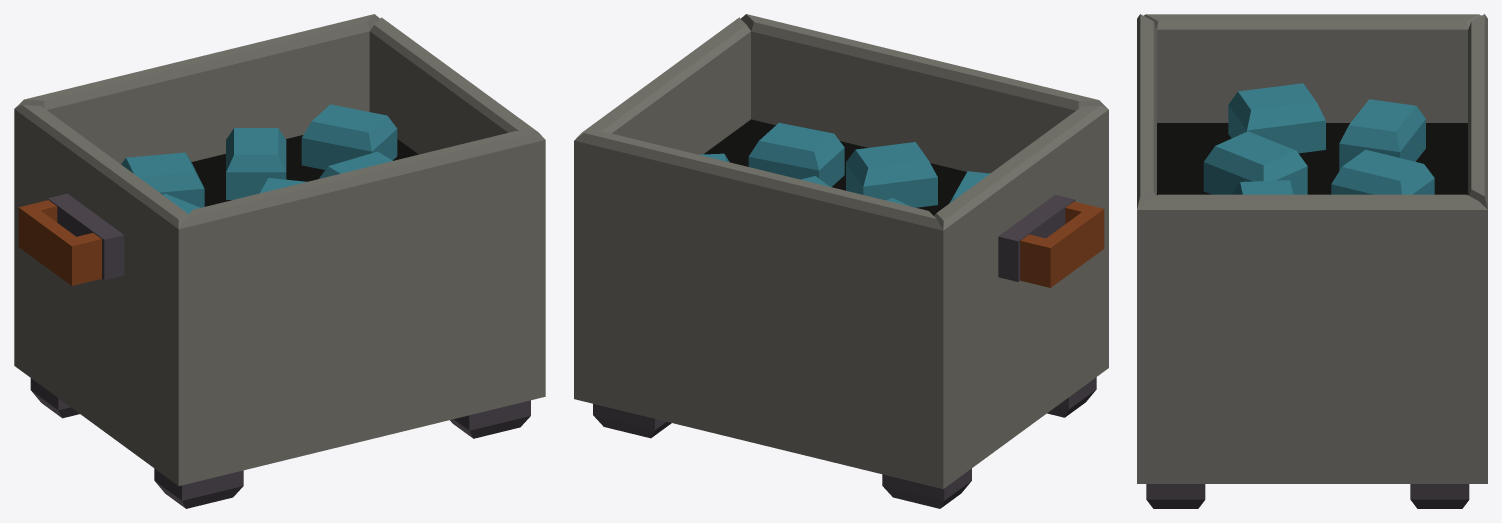
File: Vaga1.fbx
3 views of the same model, side by side, from view 1: azimuth 30°, elevation 25°; view 2: azimuth 150°, elevation 25°; view 3: azimuth 270°, elevation 25° (orthographic). The views are drawn at different scales.
Visible parts, largest first — view 1: Cube.011; view 2: Cube.011; view 3: Cube.011.
Part boxes in pixels (left/top/right/bottom): Cube.011: left=14, top=14, right=545, bottom=508; Cube.011: left=574, top=14, right=1108, bottom=508; Cube.011: left=1137, top=14, right=1487, bottom=508.
Bounding box in the file's own units: 1.18 × 0.8013 × 0.803.
